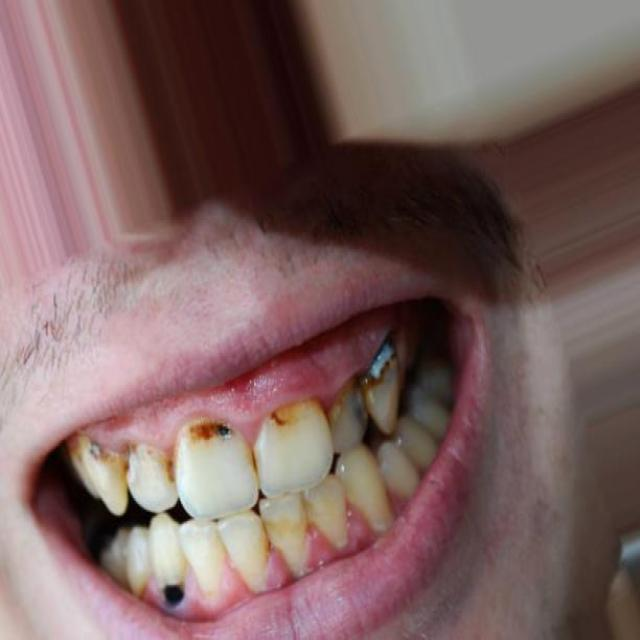caries: (116, 440, 178, 512), (149, 559, 193, 625), (362, 326, 403, 390), (326, 367, 366, 429), (183, 409, 235, 456), (80, 429, 110, 474)
